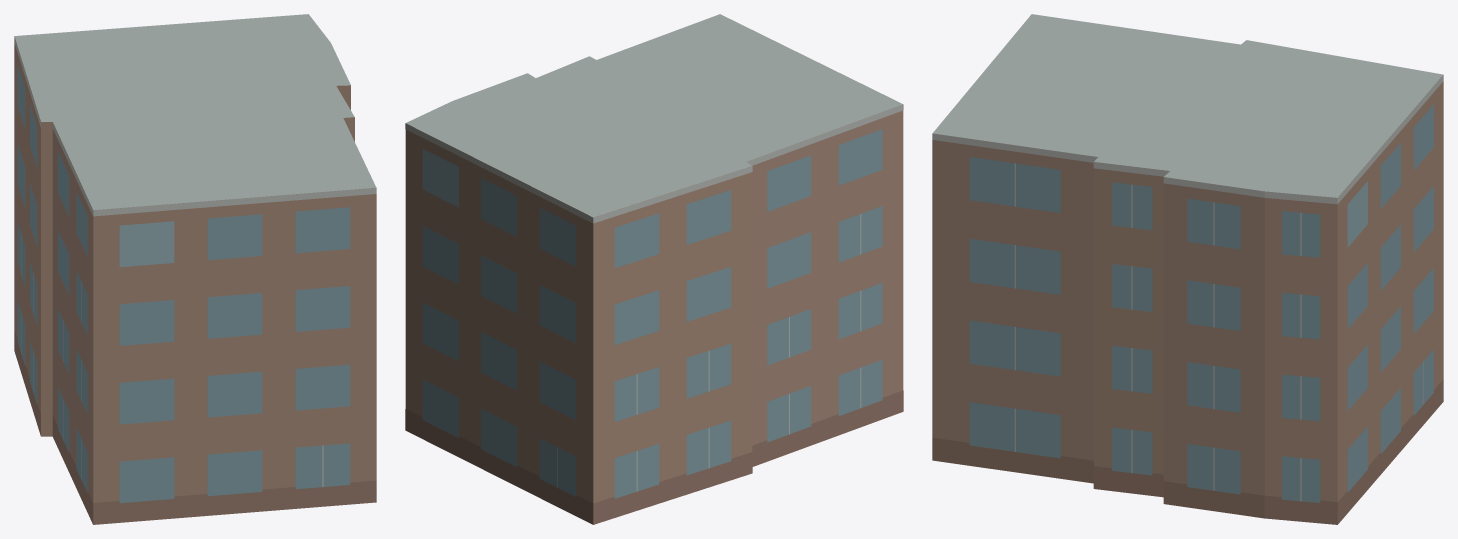
Rendered from survey-upis-32664285.glb.
3 renders of one model, left to right at view 1: azimuth 30°, elevation 25°; view 2: azimuth 150°, elevation 25°; view 3: azimuth 270°, elevation 25°, orthographic. The views are drawn at different scales.
Parts seen in each view (by area): view 1: survey-upis-32664285.tmp; view 2: survey-upis-32664285.tmp; view 3: survey-upis-32664285.tmp.
Boxes of the visible parts, left/top/right/bottom form: survey-upis-32664285.tmp: left=14, top=14, right=376, bottom=524; survey-upis-32664285.tmp: left=405, top=14, right=903, bottom=524; survey-upis-32664285.tmp: left=932, top=14, right=1443, bottom=524.
Bounding box in the file's own units: 14.96 × 12.4 × 17.58.
